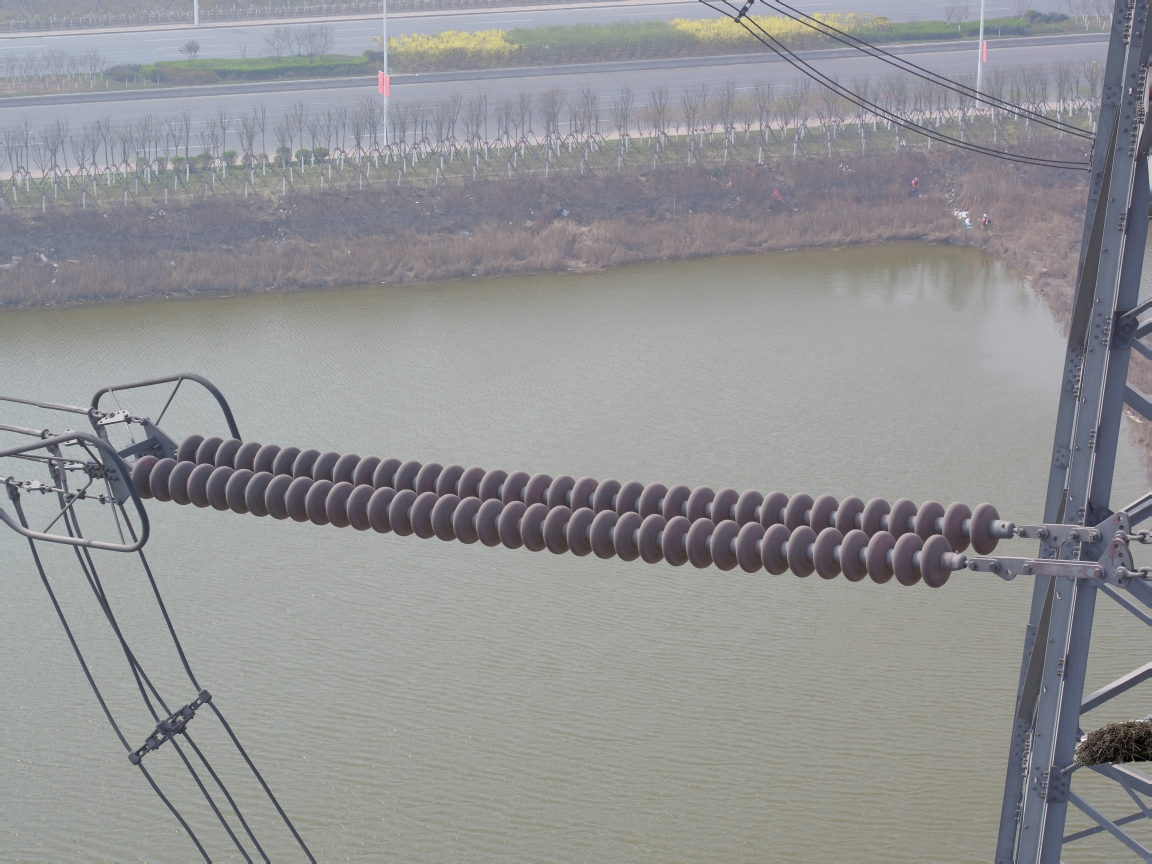nest: (1072, 715, 1150, 772)
